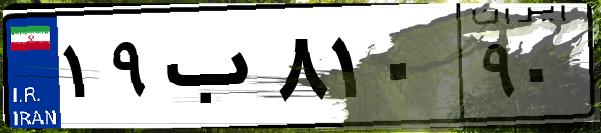0: (385, 28, 445, 110), (525, 38, 570, 115)
1: (330, 28, 385, 110), (57, 26, 110, 100)
8: (270, 28, 330, 110)
9: (475, 38, 525, 113), (110, 28, 158, 98)
ب: (158, 20, 270, 120)
